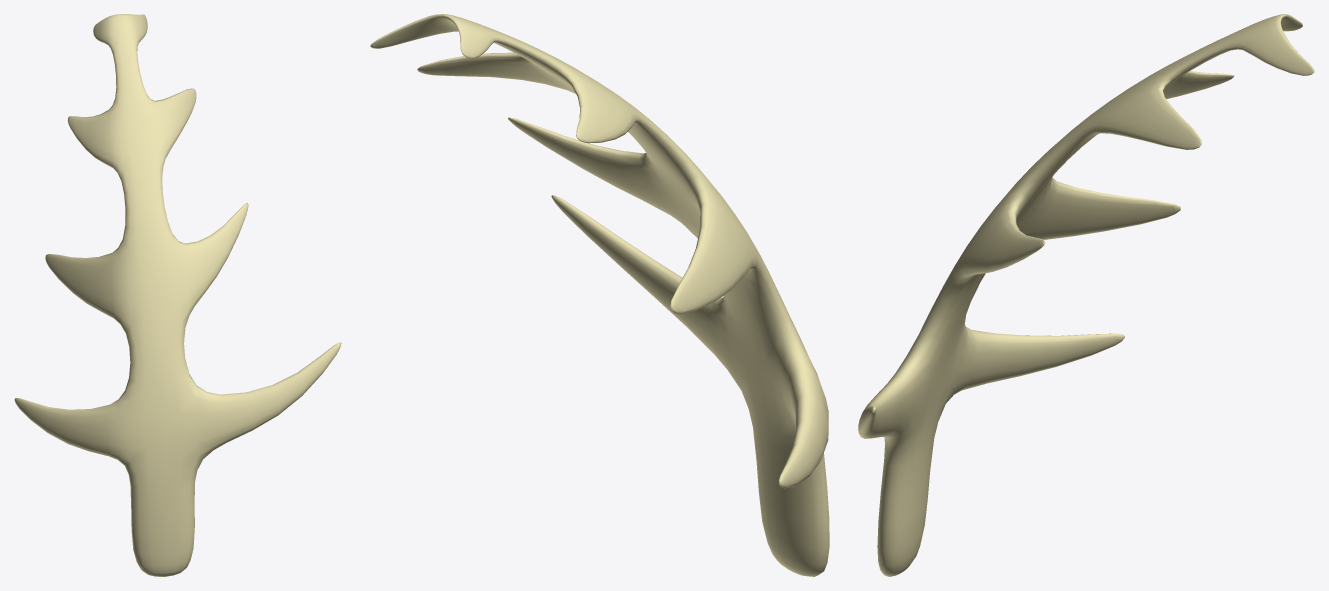
Rendered from Sharp Antlers.fbx.
The picture shows the model from 3 angles, left to right: view 1: azimuth 30°, elevation 25°; view 2: azimuth 150°, elevation 25°; view 3: azimuth 270°, elevation 25°; orthographic projection. The views are drawn at different scales.
Visible parts, largest first — view 1: Sharp Antlers - 0etsch; view 2: Sharp Antlers - 0etsch; view 3: Sharp Antlers - 0etsch.
Part boxes in pixels (bbox=[...]): Sharp Antlers - 0etsch: bbox=[14, 14, 341, 576]; Sharp Antlers - 0etsch: bbox=[370, 14, 829, 576]; Sharp Antlers - 0etsch: bbox=[858, 14, 1314, 576].
Bounding box in the file's own units: 81.86 × 144 × 96.65.
